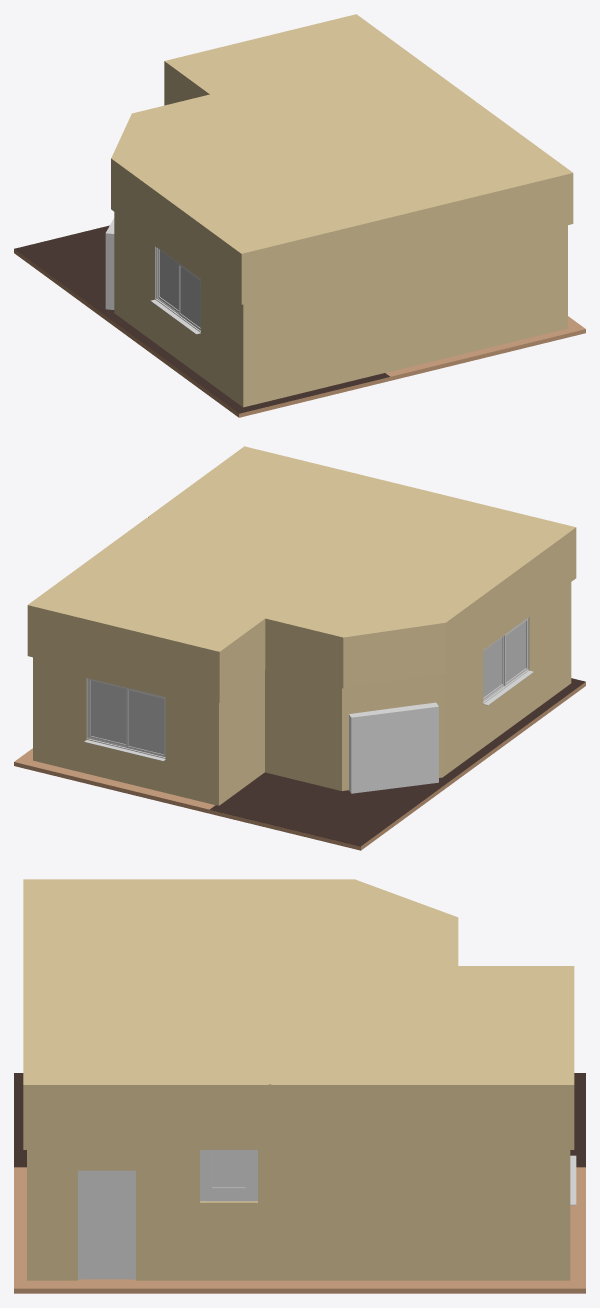
File: FloorPlan203.fbx
3 views of the same model, one above another, from view 1: azimuth 30°, elevation 25°; view 2: azimuth 150°, elevation 25°; view 3: azimuth 270°, elevation 25° (orthographic). The views are drawn at different scales.
Visible parts, largest first — view 1: Ceiling.008, Room, Cube.049, WindowFrame.001, Cube.040; view 2: Ceiling.008, Room, Cube.049, Cube.040, Windows_Sill, WindowFrame.001; view 3: Ceiling.008, Room, Cube.049, Door.001, Door.002, DoorFrame.002.
Part boxes in pixels (x1,y1,x2,y2): Ceiling.008: (111,14,573,304); Room: (114,212,567,407); Cube.049: (14,225,585,417); WindowFrame.001: (151,246,200,334); Cube.040: (105,218,114,309); Ceiling.008: (27,446,576,702); Room: (33,582,571,805); Cube.049: (14,678,585,850); Cube.040: (349,702,438,793); Windows_Sill: (84,678,165,761); WindowFrame.001: (483,617,533,705); Ceiling.008: (23,879,574,1149); Room: (27,1149,570,1280); Cube.049: (14,1073,585,1293); Door.001: (82,1173,131,1279); Door.002: (204,1150,253,1201); DoorFrame.002: (78,1150,257,1279).
Bounding box in the file's own units: 876 × 392 × 984.
